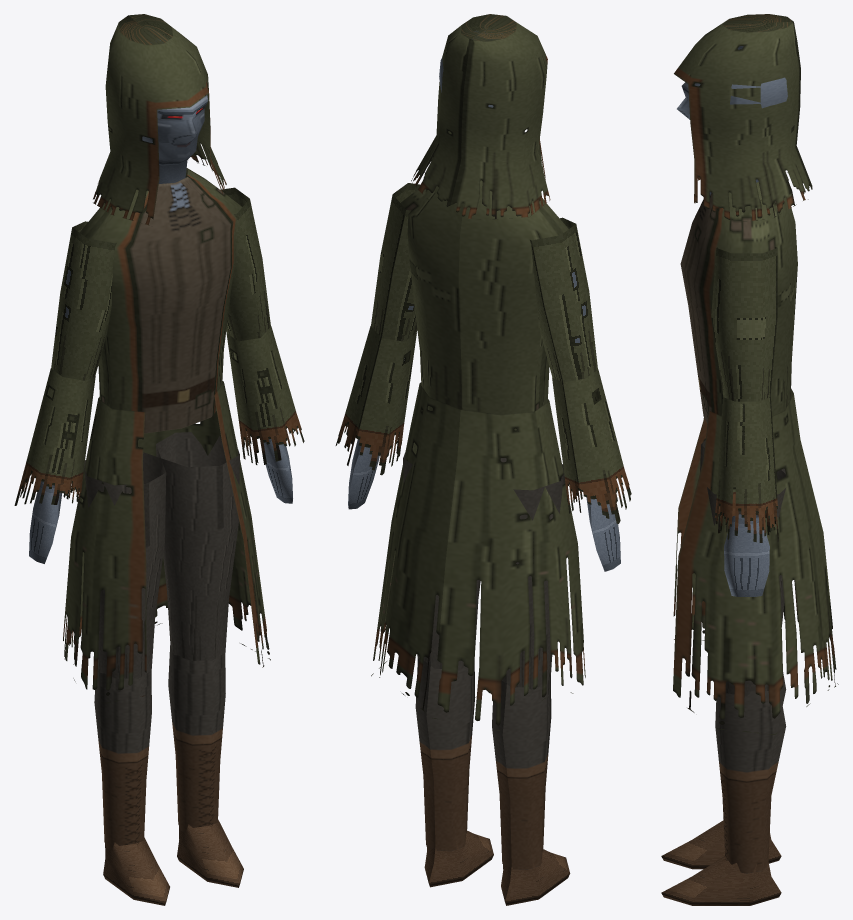
File: wanderer_ragged_moss.obj
The picture shows the model from 3 angles, left to right: view 1: azimuth 30°, elevation 25°; view 2: azimuth 150°, elevation 25°; view 3: azimuth 270°, elevation 25°; orthographic projection. The views are drawn at different scales.
Visible parts, largest first — view 1: Chest, Groin, Upper_Leg_L, Hood, Knee_Ankle_L, Knee_Ankle_R, Upper_Arm_R, Forearm_R, Forearm_L, Upper_Leg_R, Upper_Arm_L, Foot_L (+4 smaller); view 2: Groin, Chest, Hood, Knee_Ankle_R, Knee_Ankle_L, Upper_Arm_R, Forearm_R, Forearm_L, Upper_Arm_L, Upper_Leg_R, Foot_R, Foot_L (+3 smaller); view 3: Groin, Hood, Chest, Knee_Ankle_L, Upper_Arm_L, Forearm_L, Foot_L, Hand_L, Foot_R, Head, Upper_Leg_L.
Part boxes in pixels (box(x1,y1,x2,y2)): Chest: box(79, 168, 242, 433); Groin: box(63, 381, 270, 703); Upper_Leg_L: box(156, 432, 239, 660); Hood: box(93, 14, 226, 225); Knee_Ankle_L: box(168, 644, 225, 831); Knee_Ankle_R: box(94, 667, 151, 849); Upper_Arm_R: box(51, 221, 116, 380); Forearm_R: box(14, 368, 95, 508); Forearm_L: box(226, 326, 304, 464); Upper_Leg_R: box(83, 452, 166, 678); Upper_Arm_L: box(220, 187, 270, 341); Foot_L: box(177, 818, 243, 887); Groin: box(371, 382, 585, 730); Chest: box(400, 180, 568, 430); Hood: box(411, 14, 550, 219); Knee_Ankle_R: box(492, 675, 551, 869); Knee_Ankle_L: box(415, 658, 475, 851); Upper_Arm_R: box(530, 217, 597, 382); Forearm_R: box(552, 369, 631, 524); Forearm_L: box(335, 326, 416, 475); Upper_Arm_L: box(371, 183, 420, 341); Upper_Leg_R: box(500, 458, 564, 689); Foot_R: box(501, 849, 570, 905); Foot_L: box(424, 830, 493, 887); Groin: box(673, 388, 838, 734); Hood: box(674, 14, 812, 221); Chest: box(680, 182, 797, 435); Knee_Ankle_L: box(715, 691, 786, 873); Upper_Arm_L: box(711, 247, 777, 401); Forearm_L: box(714, 397, 778, 542); Foot_L: box(661, 856, 781, 905); Hand_L: box(724, 514, 769, 596); Foot_R: box(661, 820, 781, 869); Head: box(677, 46, 787, 182); Upper_Leg_L: box(707, 470, 785, 696).
Bounding box in the file's own units: 0.635 × 1.84 × 0.348.
Materials: 10 (10 with a texture image).
